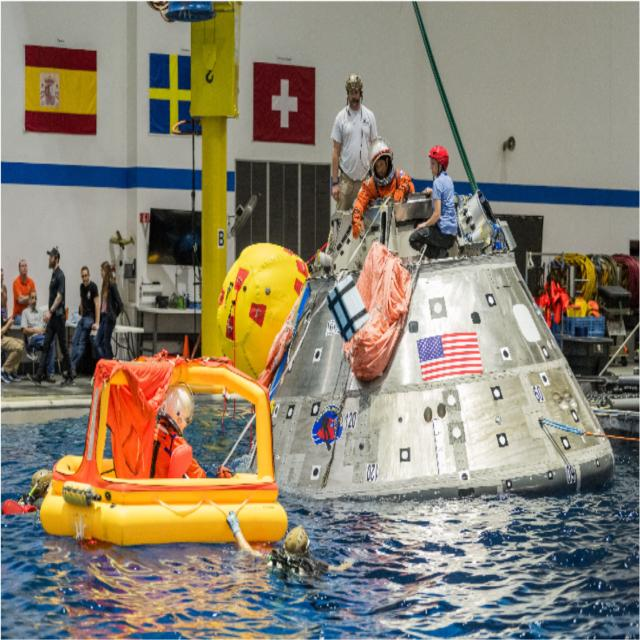Mannequin_wearing_orange-colored_life_preserver_unit_ LPU: (168, 443, 192, 479)
Multi-person_life_raft: (39, 356, 288, 545)
Orion_capsule_mockup_ WEST _located_on_far_end_of_pool: (245, 192, 615, 504)
